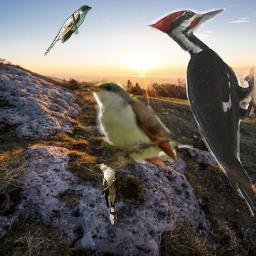Cuckoo: (78, 73, 193, 168), (44, 5, 92, 56), (96, 163, 119, 226)
Woodpecker: (146, 8, 254, 218)
